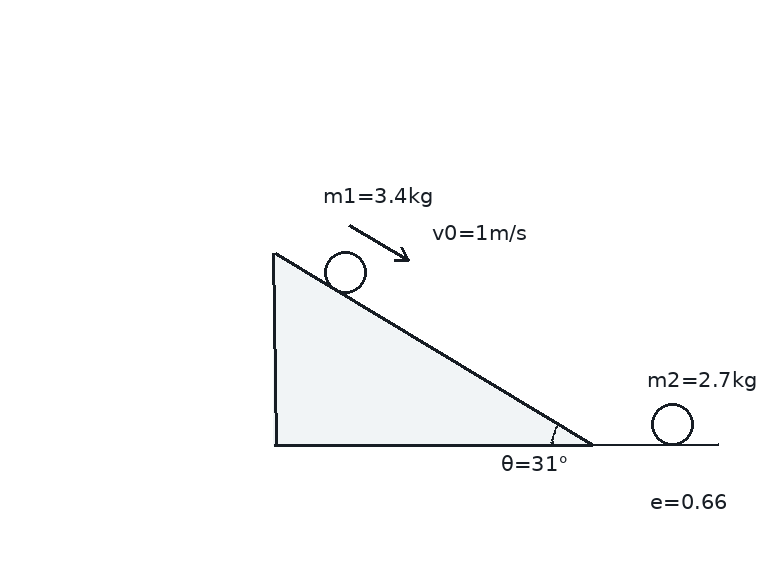ball: (322, 249, 368, 295), (649, 401, 695, 447)
ramp: (272, 252, 594, 447)
